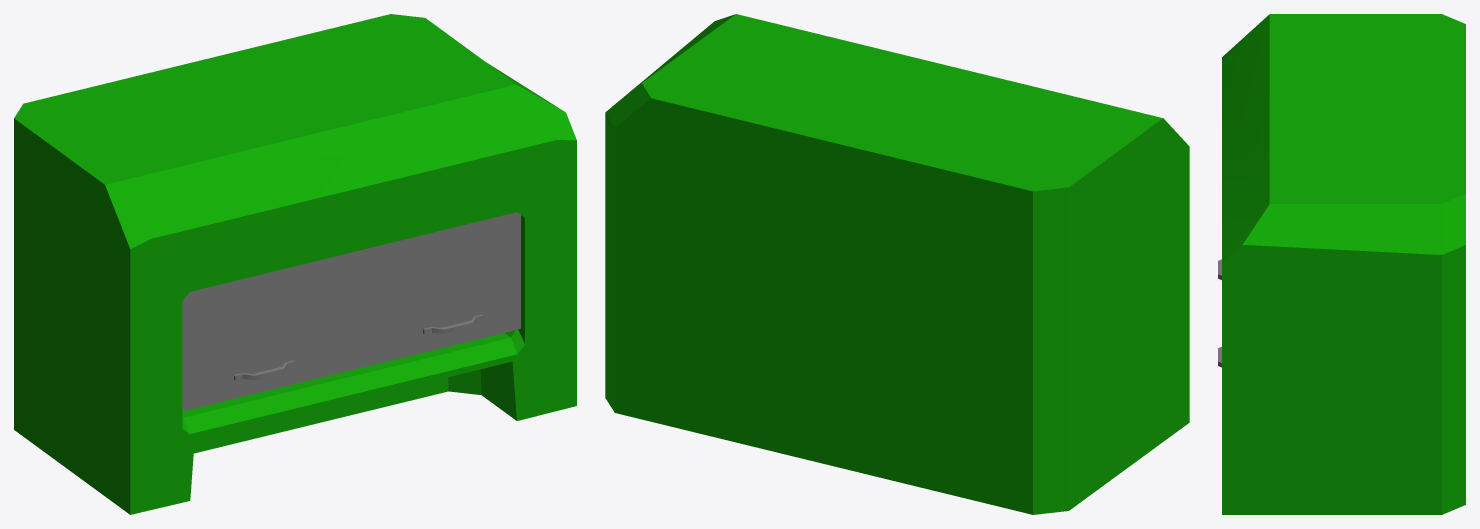
File: pailasse_lp.fbx
The picture shows the model from 3 angles, left to right: view 1: azimuth 30°, elevation 25°; view 2: azimuth 150°, elevation 25°; view 3: azimuth 270°, elevation 25°; orthographic projection. The views are drawn at different scales.
Visible parts, largest first — view 1: Box001, Box002; view 2: Box001; view 3: Box001.
Part boxes in pixels (left/top/right/bottom): Box001: left=14, top=14, right=576, bottom=514; Box002: left=182, top=212, right=520, bottom=411; Box001: left=605, top=14, right=1189, bottom=514; Box001: left=1222, top=14, right=1465, bottom=514.
Bounding box in the file's own units: 300 × 200 × 152.
